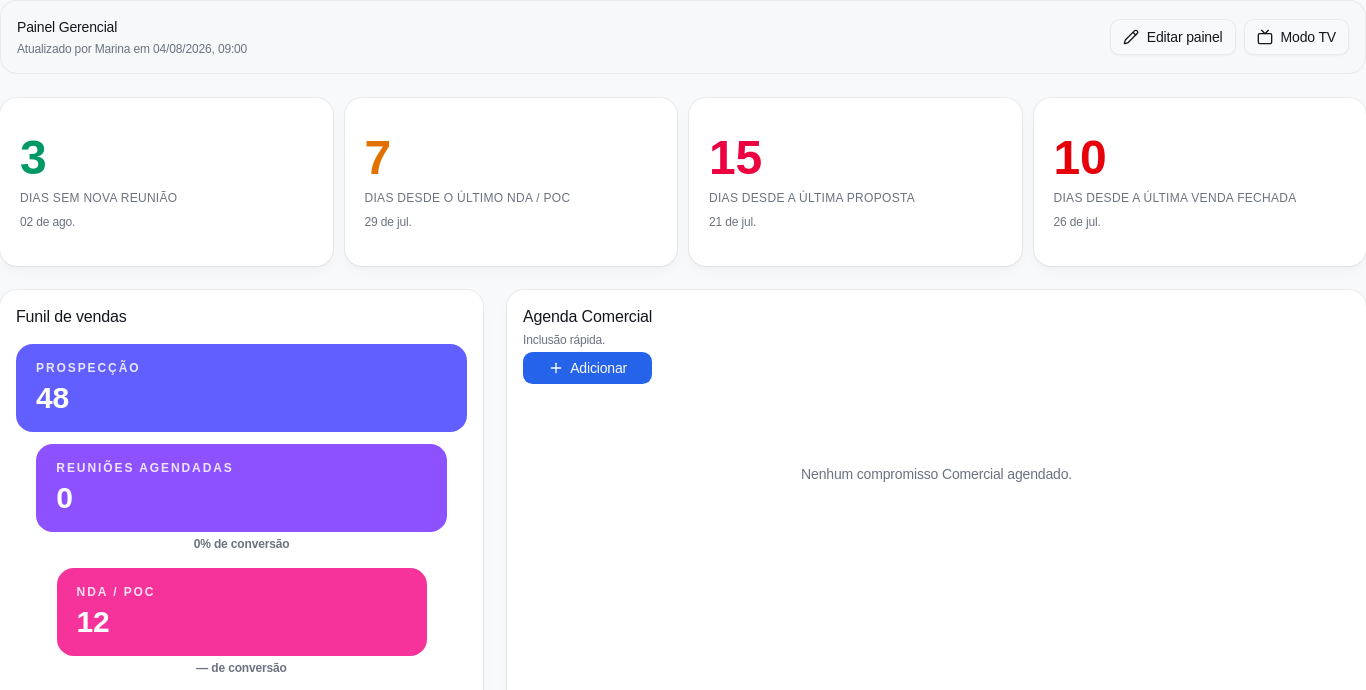
Scenario: CommercialDashboard › recupera o valor diário existente ao trocar a data
Step 1. Click the button "Editar painel" → (1173, 37), box left=1110, top=19, right=1236, bottom=55
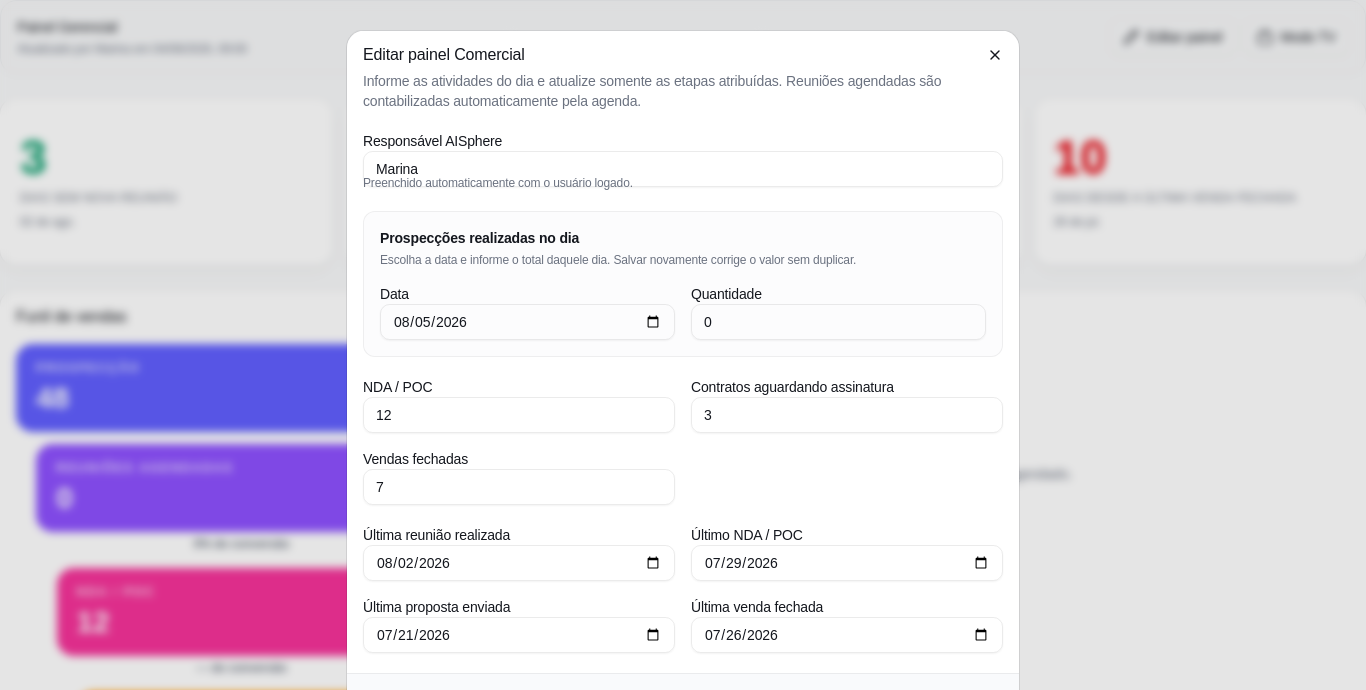
Result: the number field labelled "Quantidade" holds "0" at left=691, top=304, right=986, bottom=340
Step 2. Type "2026-08-04" into the date field labelled "Data" → (528, 322), box left=380, top=304, right=675, bottom=340
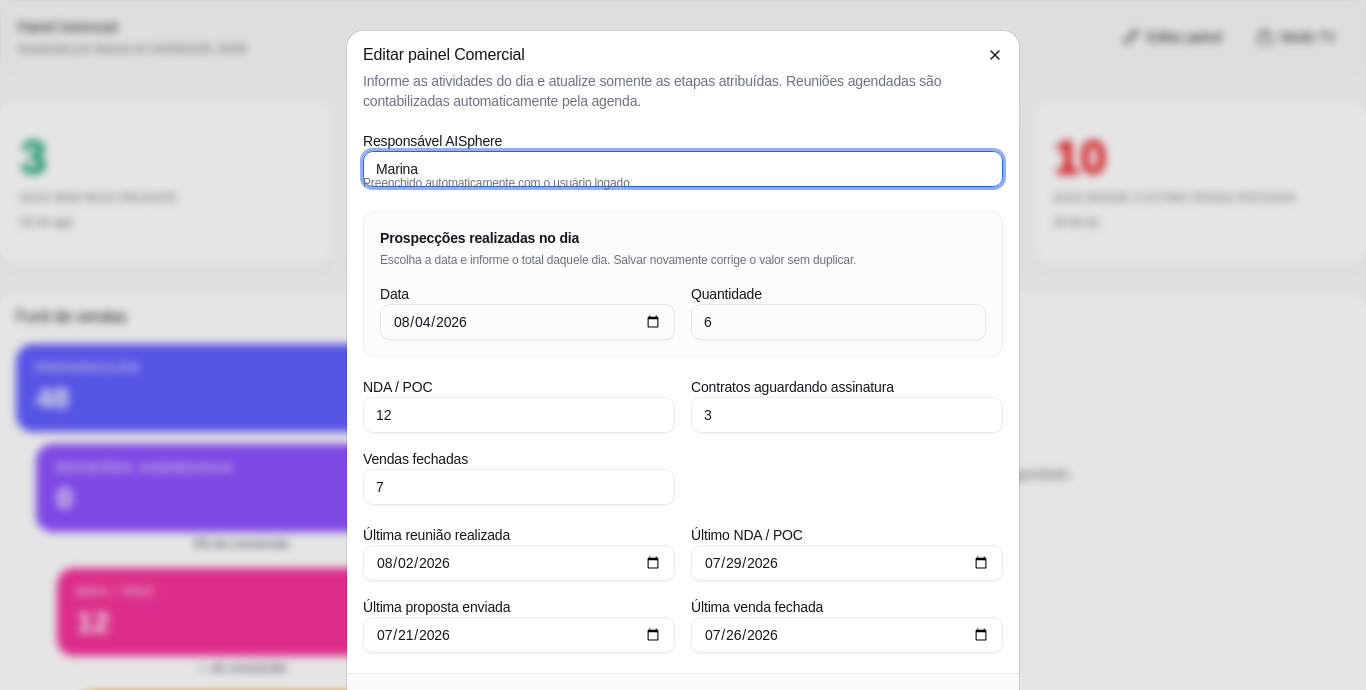
Result: the number field labelled "Quantidade" holds "6" at left=691, top=304, right=986, bottom=340
